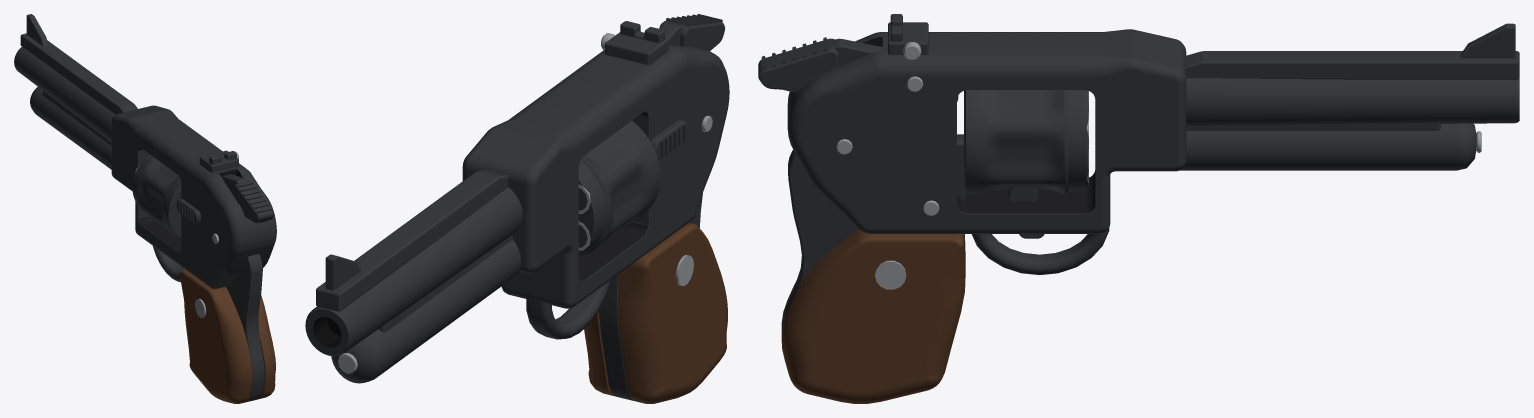
Rendered from revolver.glb.
3 renders of one model, left to right at view 1: azimuth 30°, elevation 25°; view 2: azimuth 150°, elevation 25°; view 3: azimuth 270°, elevation 25°, orthographic. The views are drawn at different scales.
Parts seen in each view (by area): view 1: Body, Cylinder, Hammer; view 2: Body, Cylinder, Hammer; view 3: Body, Cylinder, Hammer.
Part boxes in pixels (x1,y1,x2,y2): Body: (14, 14, 276, 403); Cylinder: (132, 154, 181, 239); Hammer: (222, 174, 273, 223); Body: (305, 21, 729, 403); Cylinder: (578, 121, 660, 257); Hammer: (659, 14, 725, 50); Body: (781, 14, 1519, 403); Cylinder: (964, 90, 1088, 193); Hammer: (758, 37, 882, 92).
Size of the model in its own units: 0.045 by 0.1504 by 0.2808.
